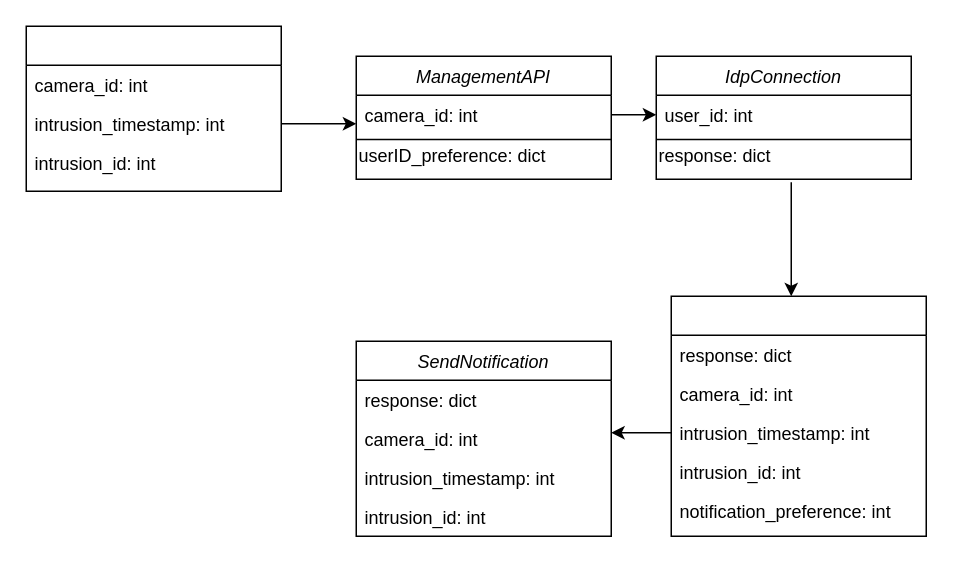
This 953x567 diagram has some shape labels left out. The shapes that lost their labels are listed below. From the top down, each one's box as (x1, y1, x2, y2) in pixels, then its label:
(25, 25, 281, 191): Notification Request
(670, 295, 926, 536): NotificationManager
